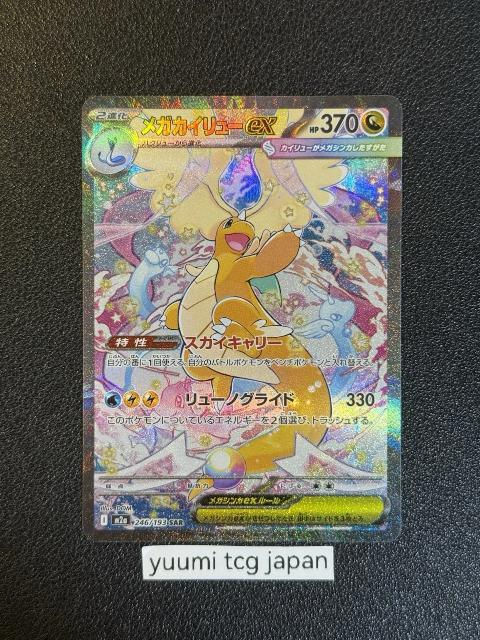Card: (80, 94, 405, 543)
Name: (138, 113, 285, 139)
